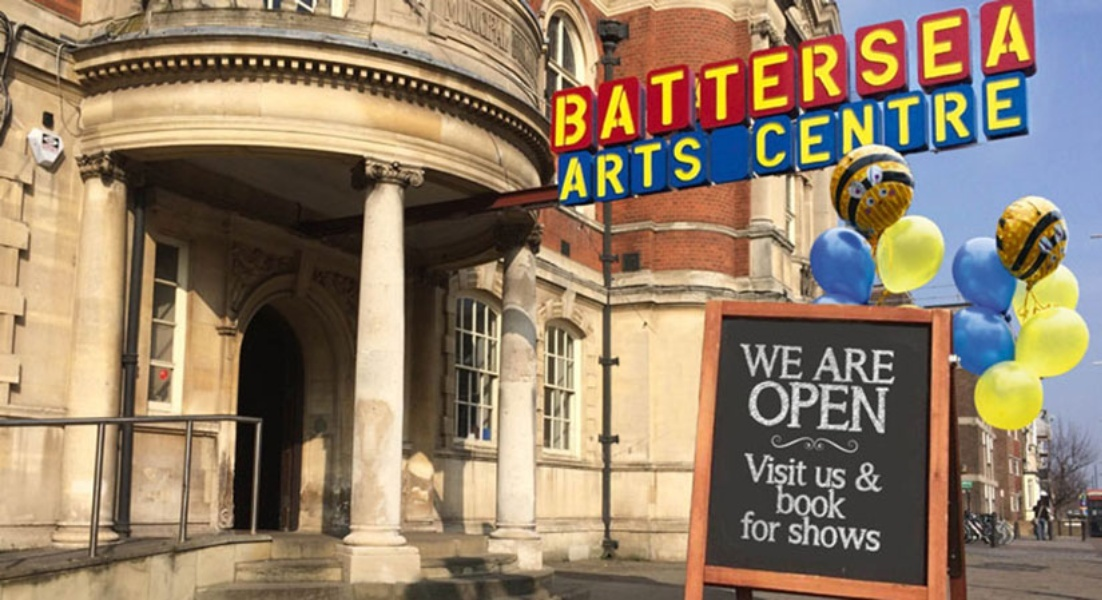text: (561, 1, 576, 150), (577, 1, 592, 150), (593, 1, 608, 150), (609, 1, 624, 150), (625, 1, 640, 150), (641, 1, 656, 150), (657, 1, 672, 150), (673, 1, 688, 150), (689, 1, 704, 150), (705, 1, 720, 150), (721, 1, 736, 150), (737, 1, 752, 150), (753, 1, 768, 150), (769, 1, 784, 150), (785, 1, 800, 150), (801, 1, 816, 150), (817, 1, 832, 150), (833, 1, 848, 150), (849, 1, 864, 150), (865, 1, 880, 150), (881, 1, 896, 150), (897, 1, 912, 150), (913, 1, 928, 150), (929, 1, 944, 150), (945, 1, 960, 150), (961, 1, 976, 150), (977, 1, 992, 150), (993, 1, 1008, 150), (1009, 1, 1024, 150), (1025, 1, 1038, 150), (769, 74, 784, 172), (785, 74, 800, 172), (801, 74, 816, 172), (817, 74, 832, 172), (833, 74, 848, 172), (849, 74, 864, 172), (865, 74, 880, 172), (881, 74, 896, 172), (897, 74, 912, 172), (913, 74, 928, 172), (929, 74, 944, 172), (945, 74, 960, 172), (961, 74, 976, 172), (977, 74, 992, 172), (993, 74, 1008, 172), (1009, 74, 1024, 172), (754, 74, 768, 172), (577, 135, 592, 204), (593, 135, 608, 204), (609, 135, 624, 204), (625, 135, 640, 204), (641, 135, 656, 204), (657, 135, 672, 204), (673, 135, 688, 204), (689, 135, 703, 204), (753, 376, 768, 437), (769, 376, 784, 437), (785, 376, 800, 437), (801, 376, 816, 437), (817, 376, 832, 437), (833, 376, 848, 437), (849, 376, 864, 437), (865, 376, 880, 437), (554, 1, 560, 150), (817, 345, 832, 388), (833, 345, 848, 388), (849, 345, 864, 388), (865, 345, 880, 388), (881, 345, 896, 388), (567, 135, 576, 204), (801, 514, 816, 555), (817, 514, 832, 555), (833, 514, 848, 555), (849, 514, 864, 555), (865, 514, 880, 555), (881, 376, 891, 437), (865, 458, 880, 496), (753, 451, 768, 488), (769, 451, 784, 488), (785, 451, 800, 488), (753, 343, 768, 380), (769, 343, 784, 380), (785, 343, 800, 380), (753, 508, 768, 544), (785, 484, 800, 519), (801, 484, 816, 519), (817, 484, 832, 519), (833, 484, 848, 519), (738, 343, 752, 380), (851, 458, 864, 496), (739, 508, 752, 544), (769, 508, 782, 544), (789, 514, 800, 555), (817, 462, 832, 491), (833, 462, 847, 491), (1025, 74, 1029, 172), (774, 484, 784, 519), (743, 451, 752, 488), (801, 451, 809, 488), (749, 376, 752, 437), (801, 343, 805, 380), (881, 514, 883, 555), (881, 458, 883, 496), (814, 462, 816, 491), (897, 345, 898, 388), (849, 484, 850, 519)
